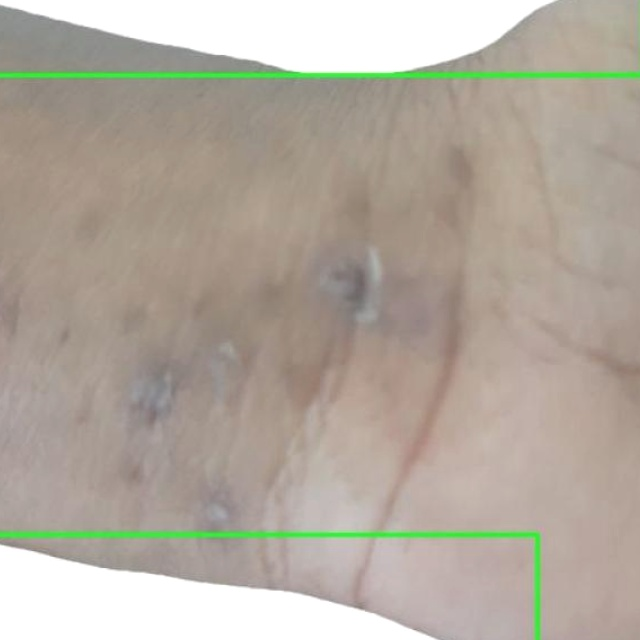Scabies: (0, 534, 537, 639), (0, 0, 639, 75)
